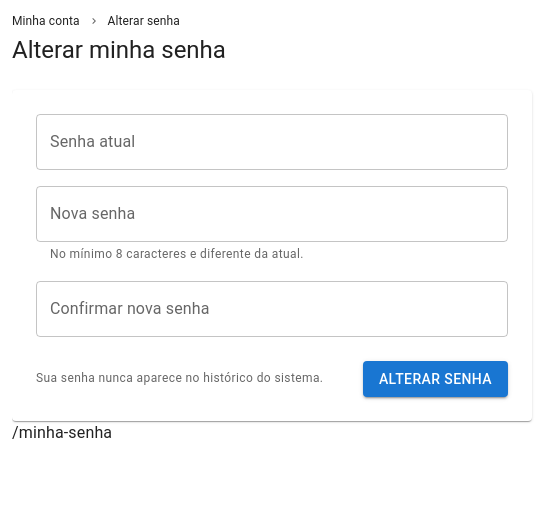
Scenario: TrocarSenhaPage › mostra o motivo do servidor quando a senha atual não confere e mantém o que foi digitado
Type "errada12345" into the password field labelled "Senha atual". click: (272, 142)
box: [36,114,508,170]
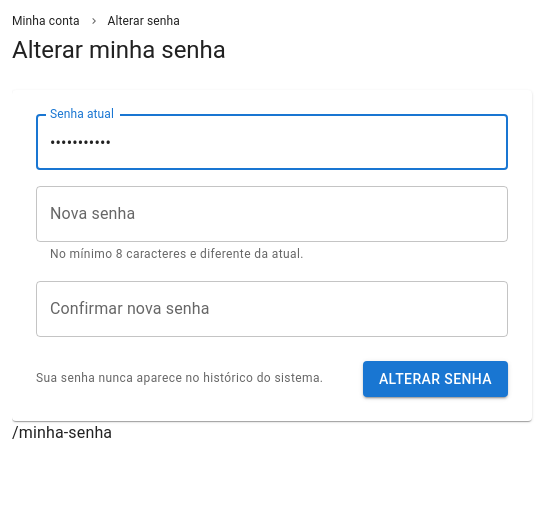
Type "minhaNovaSenha" into the password field labelled "Nova senha". click: (272, 214)
box: [36,186,508,242]
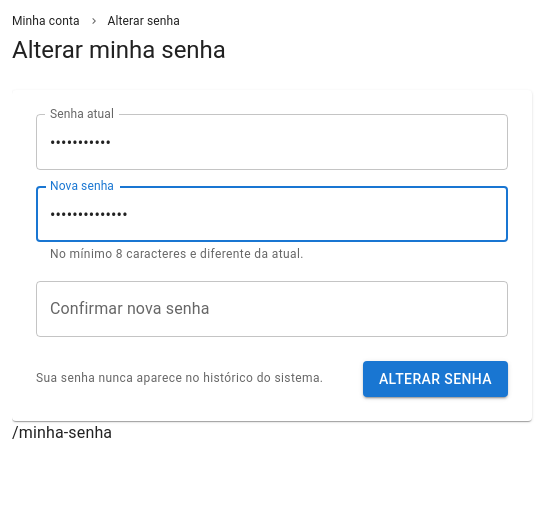
Type "minhaNovaSenha" into the password field labelled "Confirmar nova senha". click: (272, 309)
box: [36,281,508,337]
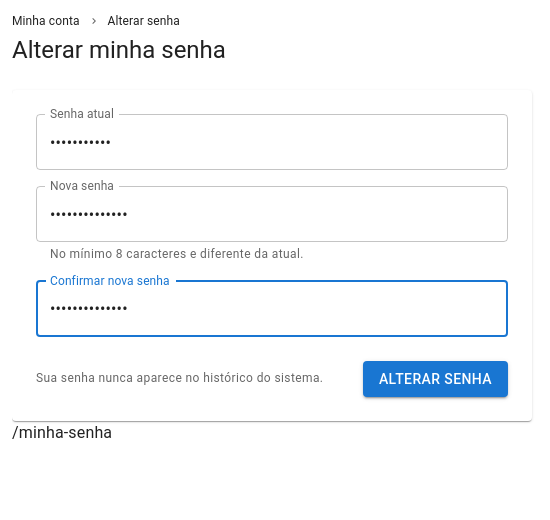
Click the button "Alterar senha". click: (435, 379)
box: [363,361,508,397]
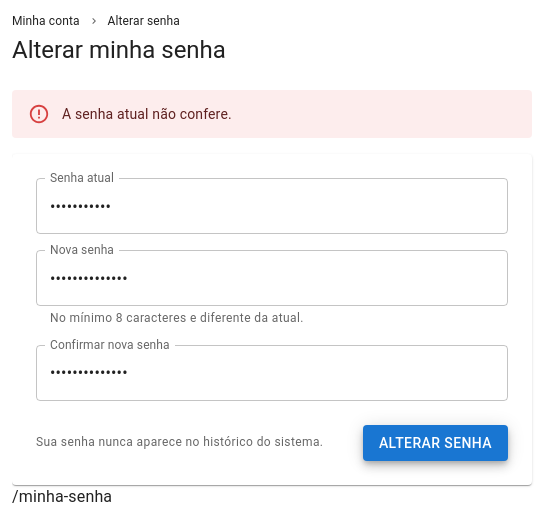
Now the text "A senha atual não confere." is shown, box [62,106,232,122]
